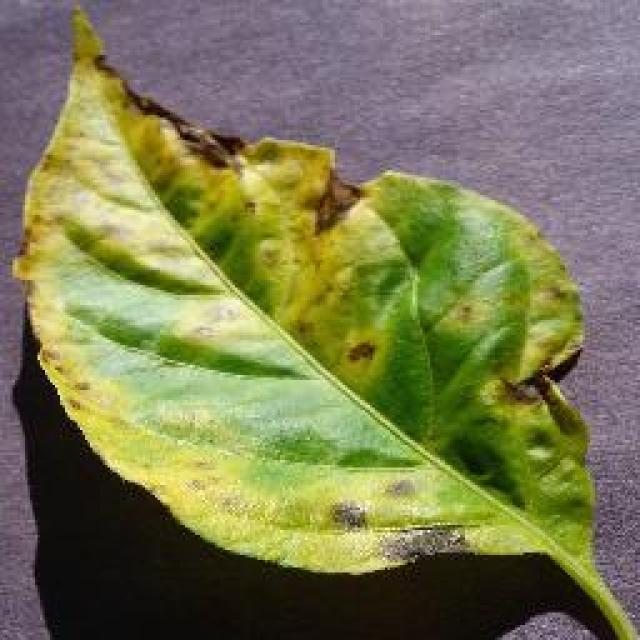Chilli_Bacterial_Spot: (10, 0, 595, 580), (308, 168, 362, 238), (500, 370, 550, 410), (250, 233, 288, 275), (328, 498, 370, 532), (340, 335, 378, 367), (380, 472, 420, 502)
